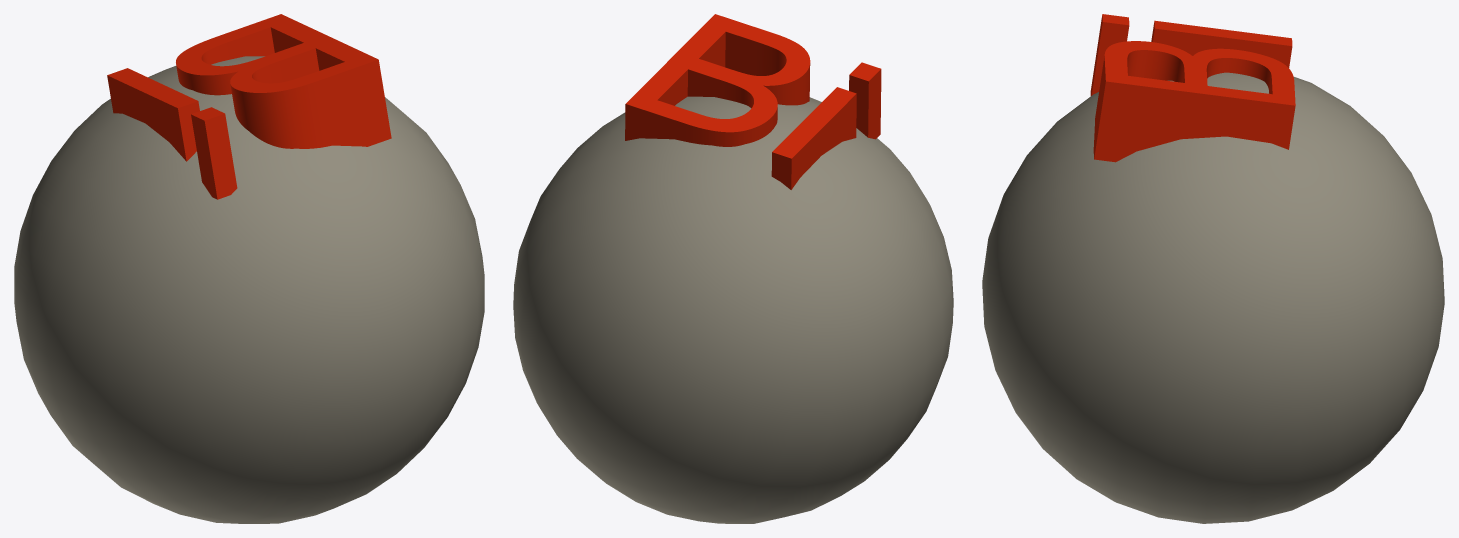
3 renders of one model, left to right at view 1: azimuth 30°, elevation 25°; view 2: azimuth 150°, elevation 25°; view 3: azimuth 270°, elevation 25°, orthographic. The views are drawn at different scales.
Parts seen in each view (by area): view 1: Bi; view 2: Bi; view 3: Bi.
Boxes of the visible parts, x1,y1,x2,y2 form: Bi: (14, 14, 484, 523); Bi: (513, 14, 953, 523); Bi: (982, 14, 1444, 523).
Size of the model in its own units: 38.65 by 42.06 by 38.69.
